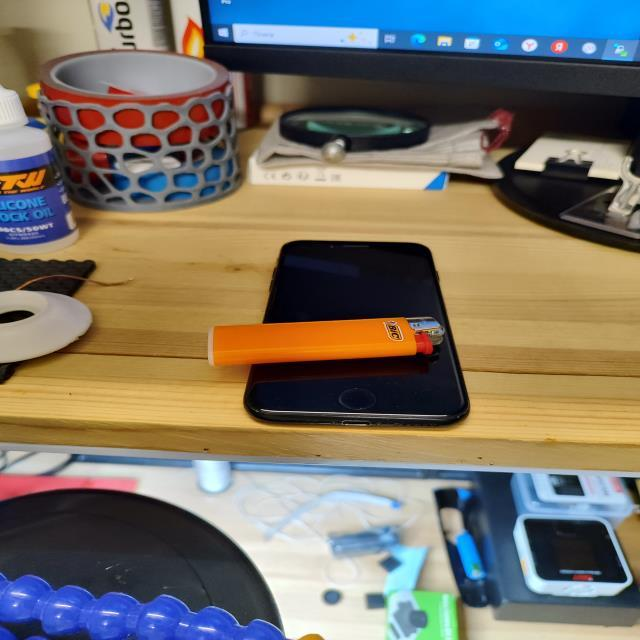lighter: (208, 319, 432, 366)
